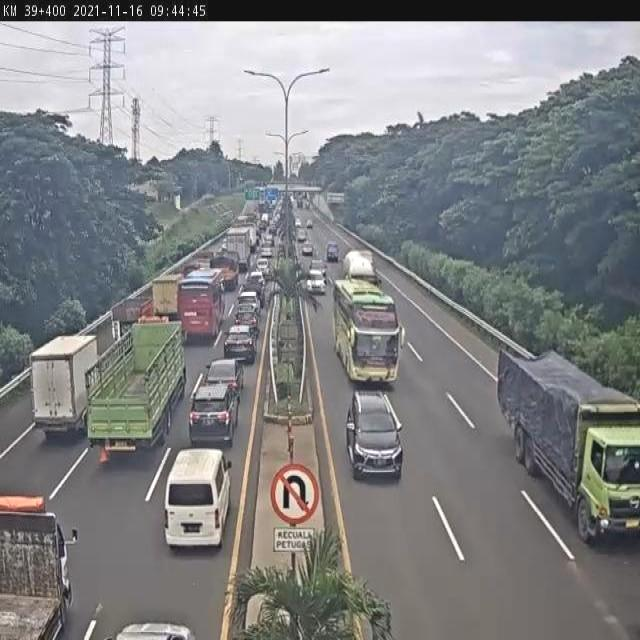Bus: (322, 276, 412, 388), (175, 265, 225, 337)
Car: (340, 388, 404, 486), (188, 377, 240, 447), (204, 357, 245, 400), (112, 621, 198, 639), (223, 323, 258, 362), (233, 308, 260, 342), (235, 292, 261, 322), (242, 274, 265, 304), (306, 268, 327, 294), (256, 258, 270, 277), (326, 242, 339, 262), (260, 244, 273, 260), (302, 242, 314, 256), (277, 243, 286, 260), (296, 228, 306, 243), (306, 219, 313, 229), (295, 218, 302, 228)
Truck: (489, 336, 639, 545), (87, 318, 184, 452), (29, 311, 125, 439), (0, 488, 74, 639), (110, 287, 153, 328), (148, 266, 181, 316), (342, 246, 378, 291), (210, 248, 239, 287), (225, 230, 250, 266)
Van: (164, 448, 232, 547)
